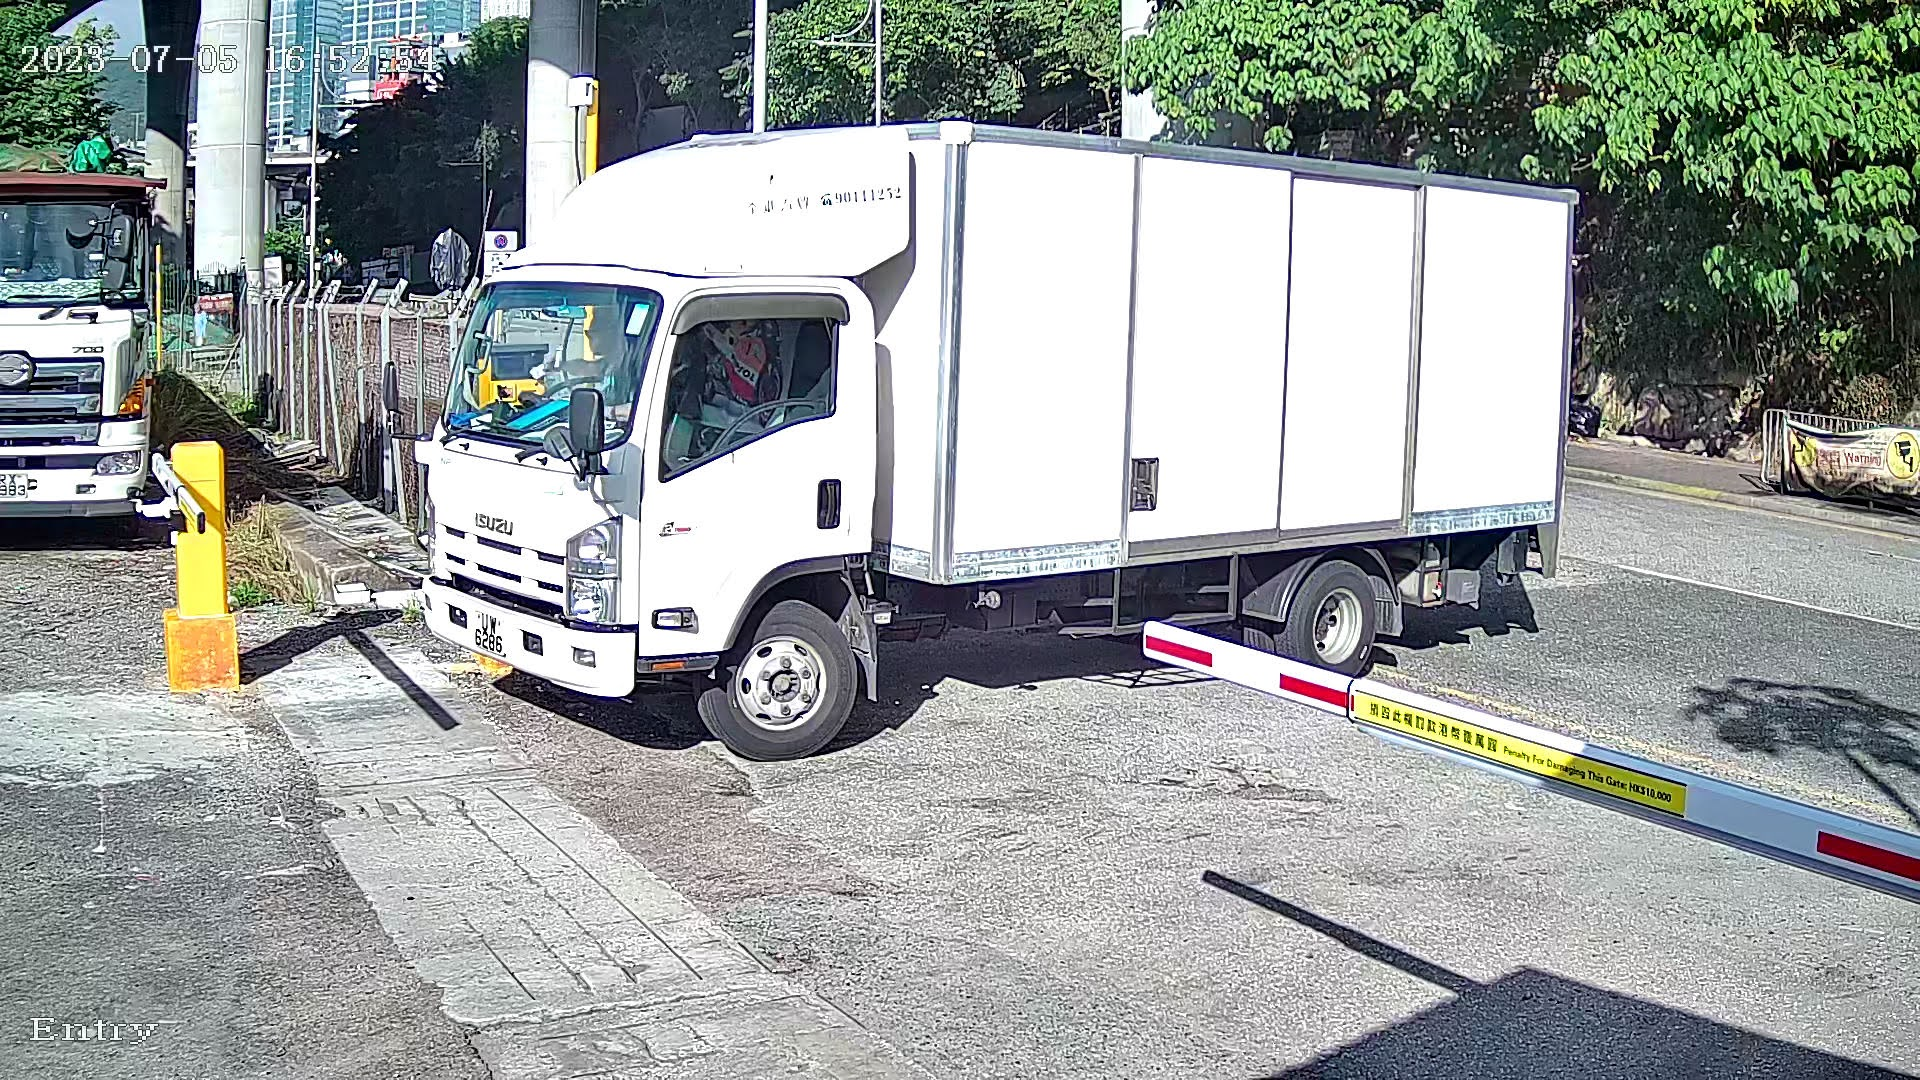truck_small: (407, 123, 1642, 799)
